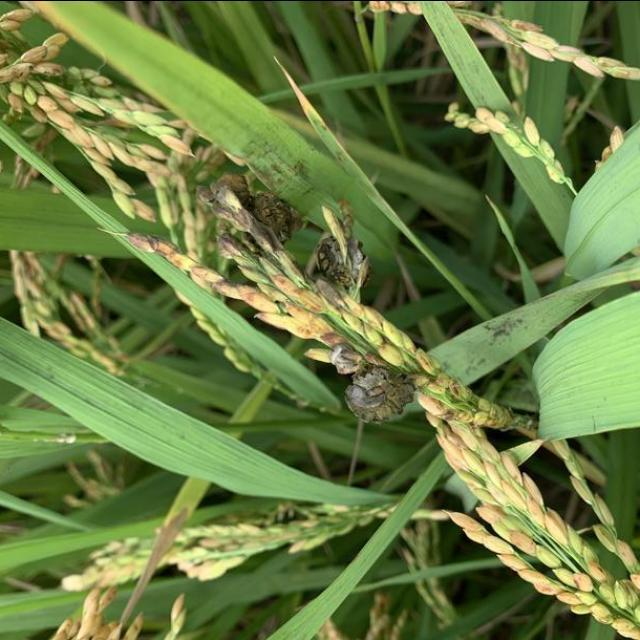Leaf_Scald: (206, 168, 294, 246), (342, 351, 416, 429), (310, 226, 370, 304)
